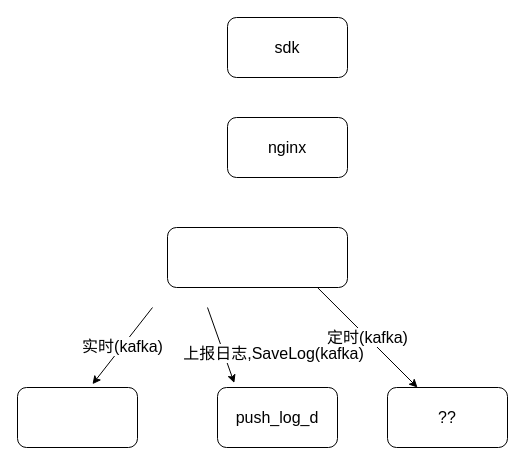
The diagram is 525 pixels wide and 465 high, and some of its shapes have lost their labels. Here are the shapes that lost their labels. From the top down, the centre of each, then its label:
the point at 257,257: im_pushagentv2_d
the point at 77,417: push_server_d
